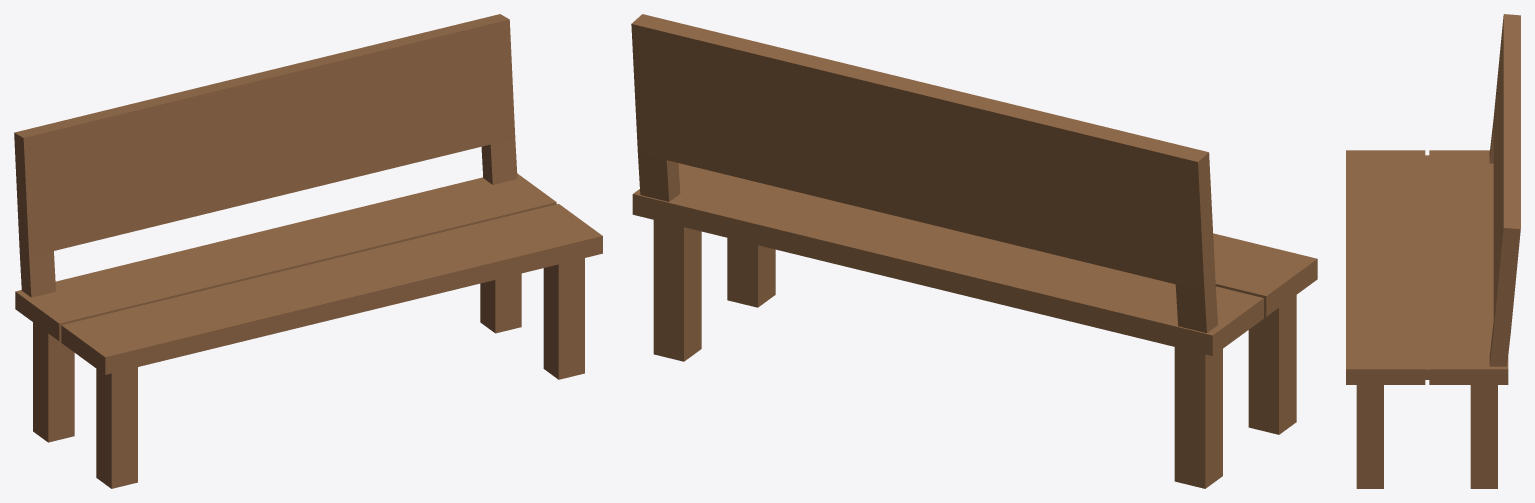
Rendered from Bench_01.fbx.
The picture shows the model from 3 angles, left to right: view 1: azimuth 30°, elevation 25°; view 2: azimuth 150°, elevation 25°; view 3: azimuth 270°, elevation 25°; orthographic projection. The views are drawn at different scales.
Visible parts, largest first — view 1: Bench_01; view 2: Bench_01; view 3: Bench_01.
Boxes of the visible parts, x1=… form: Bench_01: x1=14, y1=14, x2=602, y2=488; Bench_01: x1=631, y1=14, x2=1317, y2=488; Bench_01: x1=1346, y1=14, x2=1520, y2=488.
Bounding box in the file's own units: 3.7 × 2.08 × 1.25.
